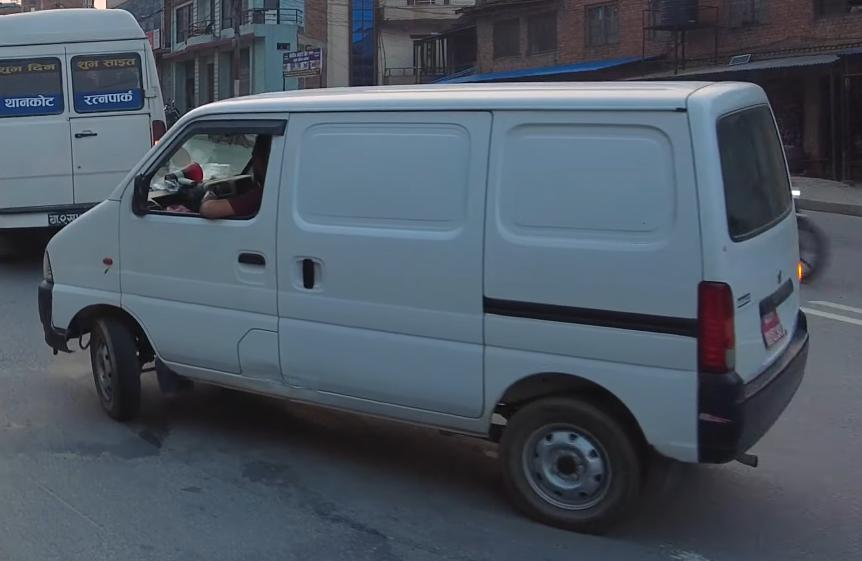micro_bus: (0, 3, 168, 244)
van: (35, 73, 815, 539)
